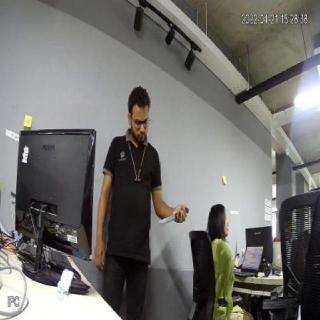knife: (155, 208, 183, 228)
